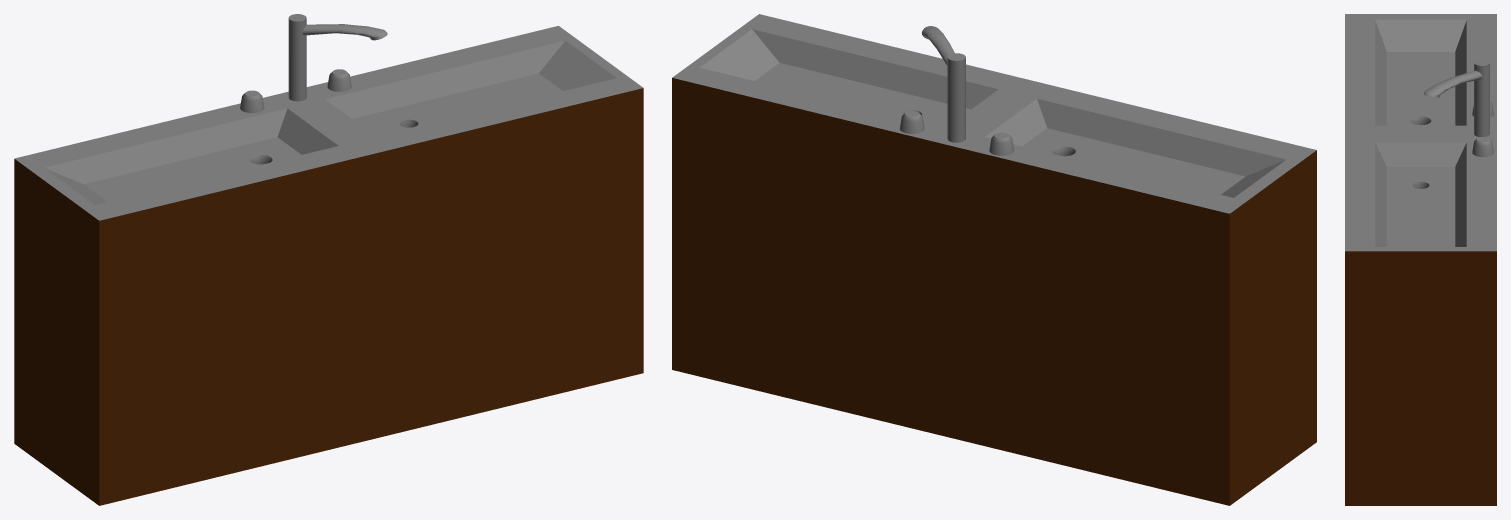
Rendered from sink2.fbx.
3 views of the same model, side by side, from view 1: azimuth 30°, elevation 25°; view 2: azimuth 150°, elevation 25°; view 3: azimuth 270°, elevation 25° (orthographic). The views are drawn at different scales.
Parts seen in each view (by area): view 1: pCube3; view 2: pCube3; view 3: pCube3.
Part boxes in pixels (x1,y1,x2,y2): pCube3: (14,14,643,505); pCube3: (672,14,1316,505); pCube3: (1345,14,1496,505).
Size of the model in its own units: 12.64 by 8.1 by 3.42.
1 material, 1 textured.
